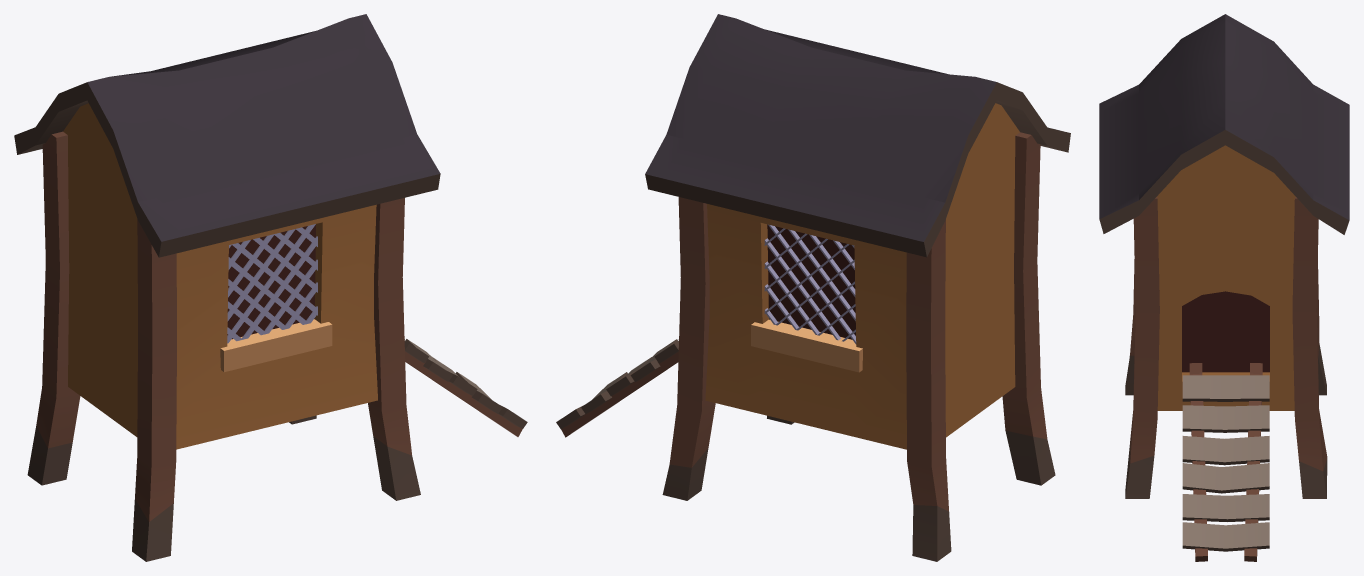
File: ChickenCoop.fbx
The picture shows the model from 3 angles, left to right: view 1: azimuth 30°, elevation 25°; view 2: azimuth 150°, elevation 25°; view 3: azimuth 270°, elevation 25°; orthographic projection. The views are drawn at different scales.
Parts seen in each view (by area): view 1: ChickenCoop; view 2: ChickenCoop; view 3: ChickenCoop.
Boxes of the visible parts, x1,y1,x2,y2 form: ChickenCoop: (14,14,527,561); ChickenCoop: (556,14,1070,561); ChickenCoop: (1099,14,1349,561).
Size of the model in its own units: 184 by 186 by 112.
